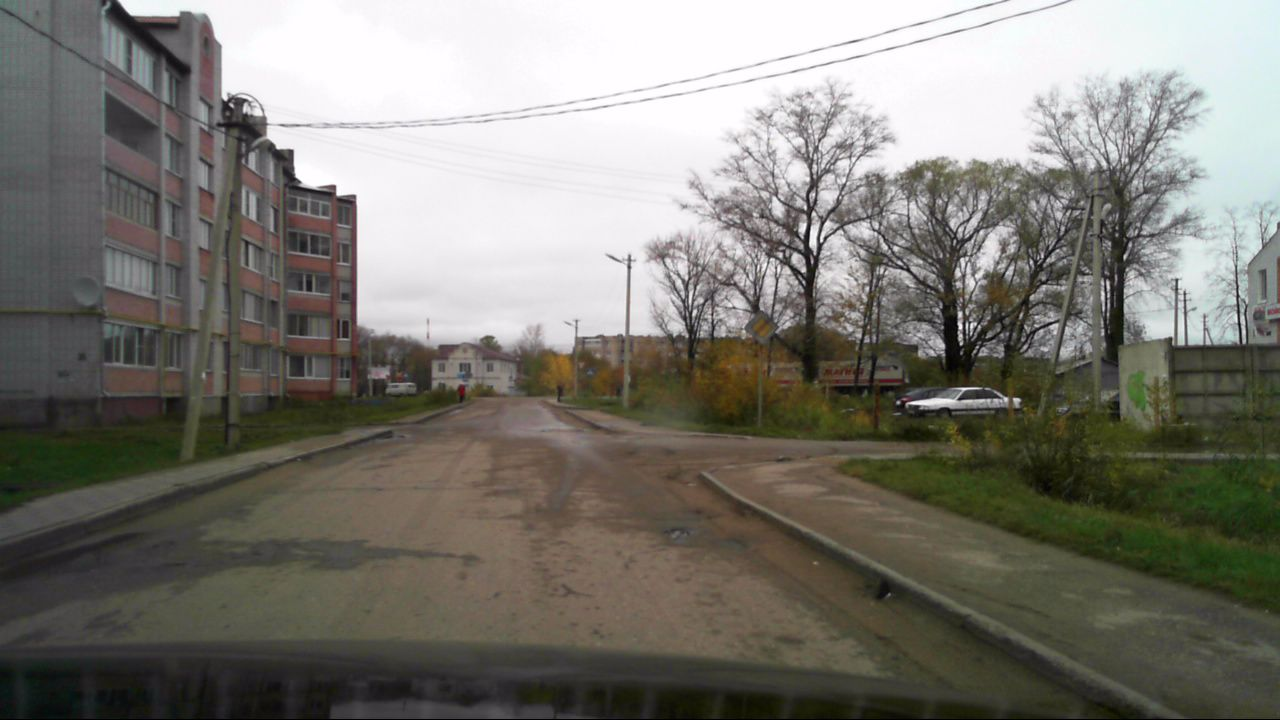main road: (743, 311, 779, 344)
